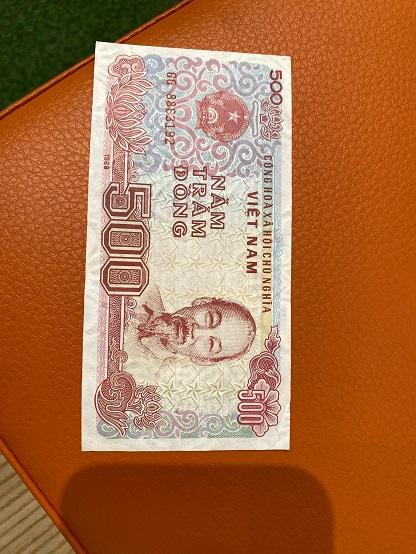500vnd: (79, 39, 293, 452)
